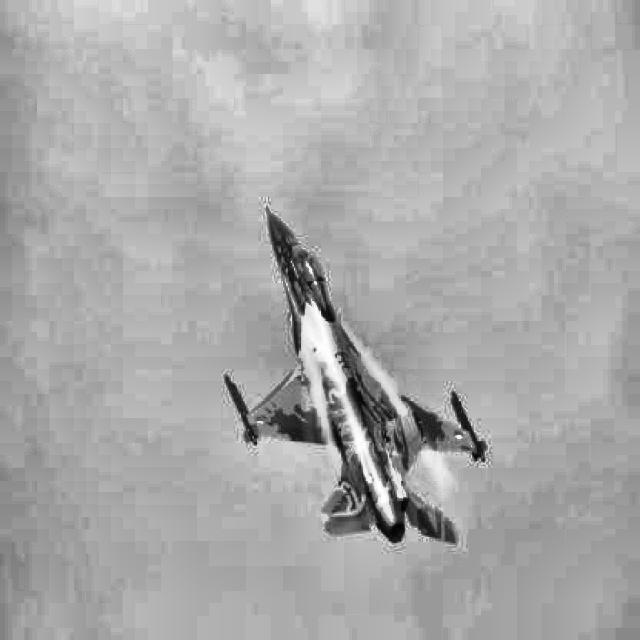F16: (225, 201, 486, 544)
